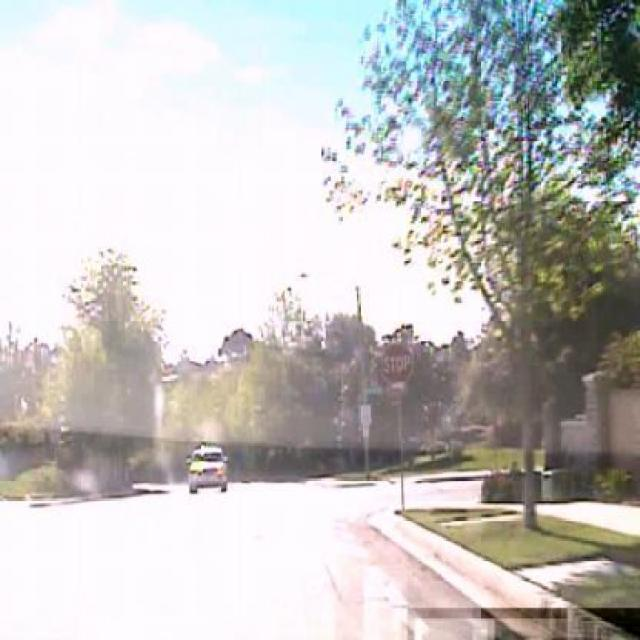traffic_sign: (378, 346, 418, 386)
